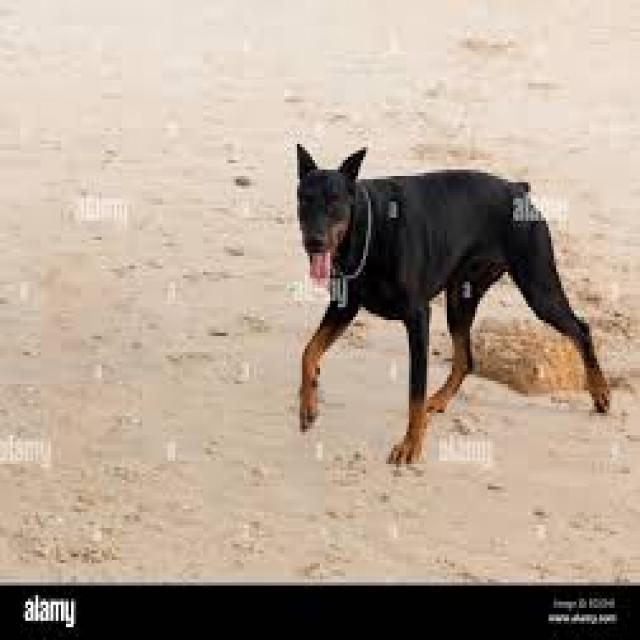Dog: (290, 137, 616, 470)
